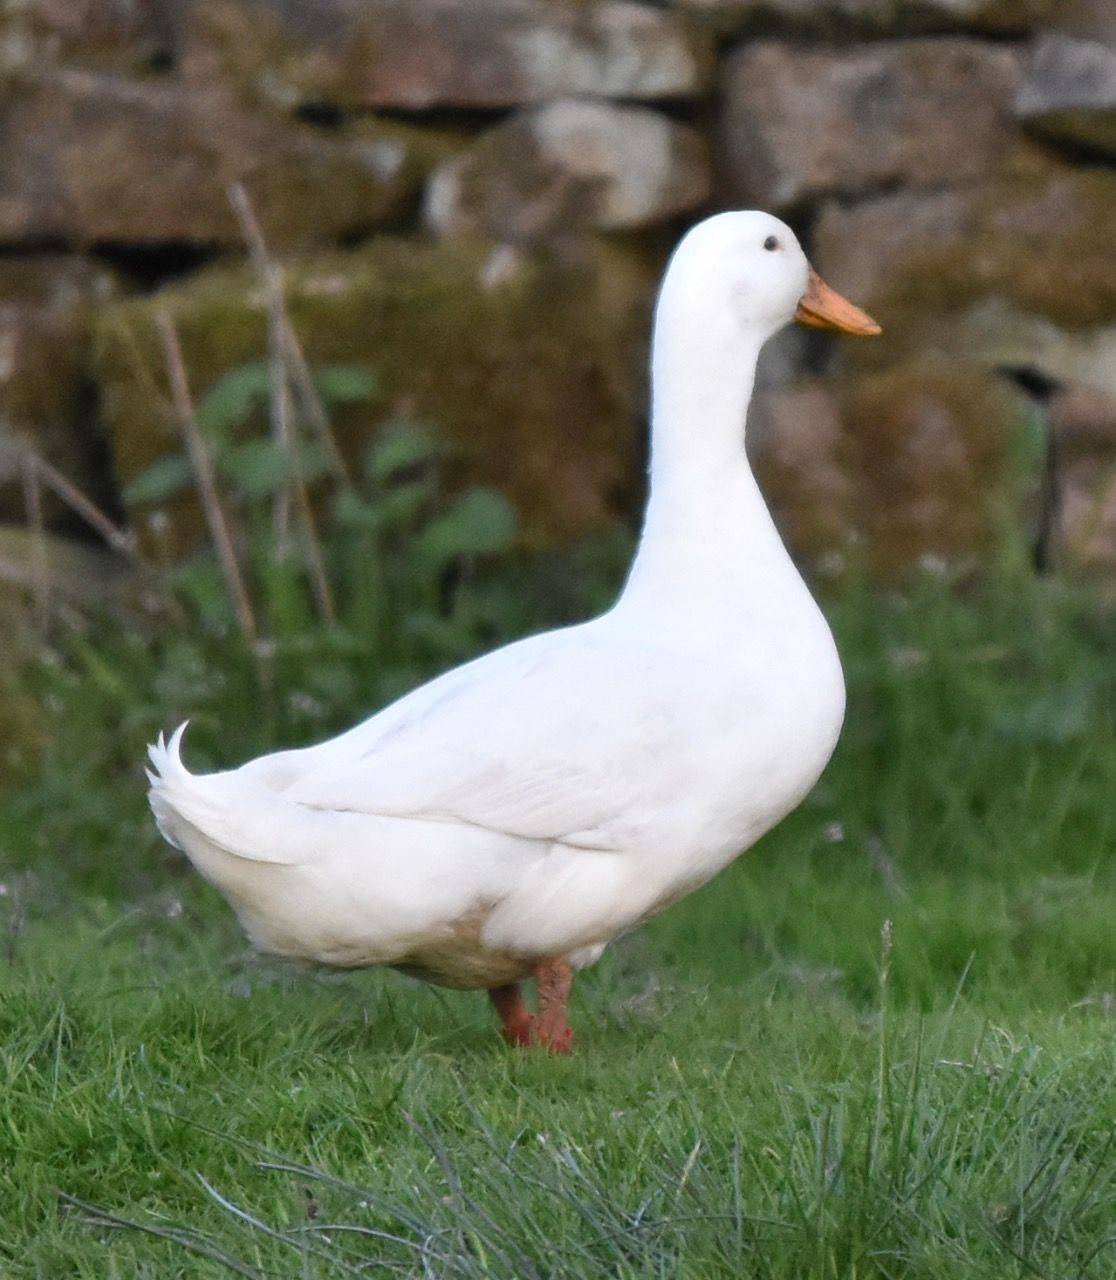Mencari Makan di Lumpur: (792, 266, 890, 350)
